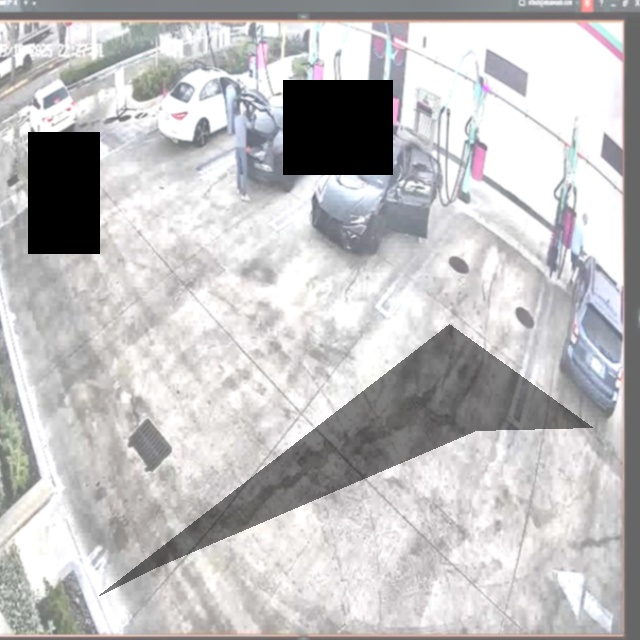Car: (310, 120, 443, 253), (234, 91, 345, 178), (157, 67, 265, 144)
